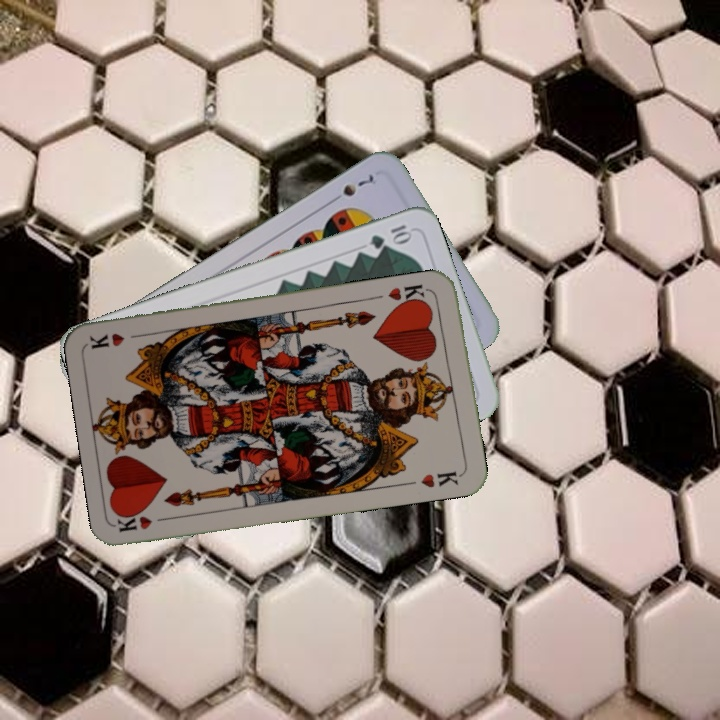G10: (366, 220, 415, 252)
HK: (114, 507, 174, 535), (384, 280, 434, 310)
S7: (326, 171, 377, 206)
